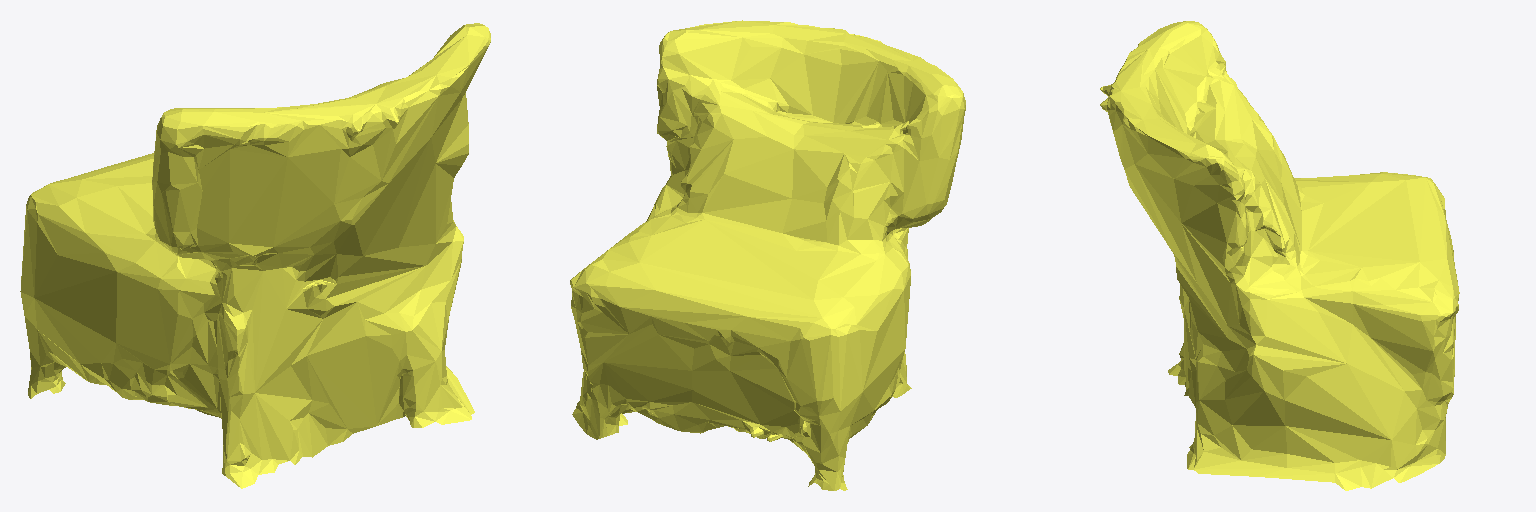
robot.urdf — env.urdf:
<?xml version="0.0" ?>
<robot name="env.urdf">
  <link name="baseLink">
    <contact>
      <lateral_friction value="1.0"/>
      <rolling_friction value="0.0"/>
      <contact_cfm value="0.0"/>
      <contact_erp value="1.0"/>
    </contact>
    <inertial>
      <origin rpy="0 0 0" xyz="0.0 0.02 0.0"/>
       <mass value="0"/>
       <inertia ixx="1" ixy="0" ixz="0" iyy="1" iyz="0" izz="1"/>
    </inertial>
    <visual>
      <origin rpy="0 0 0" xyz="0 0 0"/>
      <geometry>
        <mesh filename="chair1.obj" scale="1 1 1"/>
      </geometry>
       <material name="yellow">
        <color rgba="1 1 0.4 1"/>
      </material>
    </visual>
    <collision>
      <origin rpy="0 0 0" xyz="0 0 0"/>
      <geometry>
	 	<mesh filename="chair1.obj" scale="1 1 1"/>
      </geometry>
    </collision>
  </link>
</robot>

--- Facts derived from the render (not from the file) ---
The picture shows the robot from 3 angles, left to right: view 1: azimuth 30°, elevation 25°; view 2: azimuth 150°, elevation 25°; view 3: azimuth 270°, elevation 25°; orthographic projection.
Robot: env.urdf — 1 links, 0 joints (none); root link baseLink; default pose: all joints at 0.
Visible links, largest first — view 1: baseLink; view 2: baseLink; view 3: baseLink.
Boxes of the visible links, left/top/right/bottom form: baseLink: left=20, top=23, right=490, bottom=488; baseLink: left=570, top=20, right=965, bottom=490; baseLink: left=1100, top=21, right=1459, bottom=490.
Bounding box of the posed robot: 0.7596 × 0.756 × 0.7694 m (x, y, z).
1 mesh visuals loaded from 1 distinct referenced files (1 OBJ).